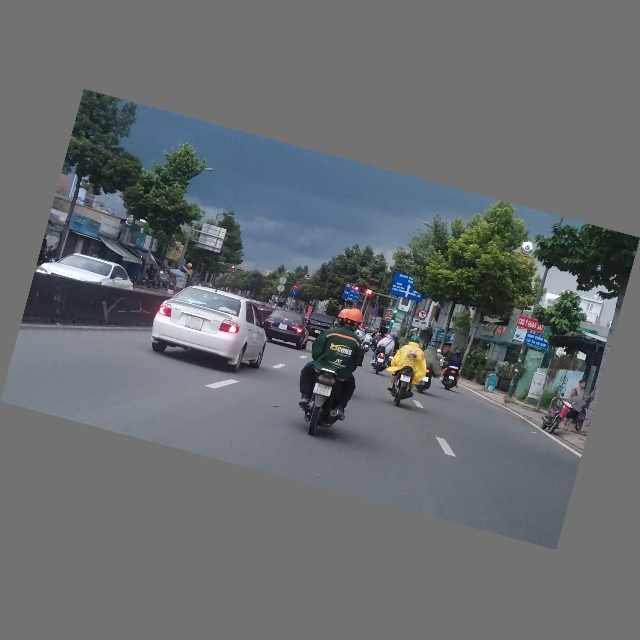P.102: (293, 284, 300, 291)
P.137: (417, 309, 429, 321)
R.302a: (291, 290, 298, 297)
R.415a: (342, 287, 361, 304)
